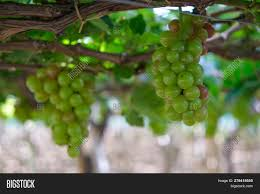grapes: (157, 17, 216, 130), (31, 68, 97, 159)
